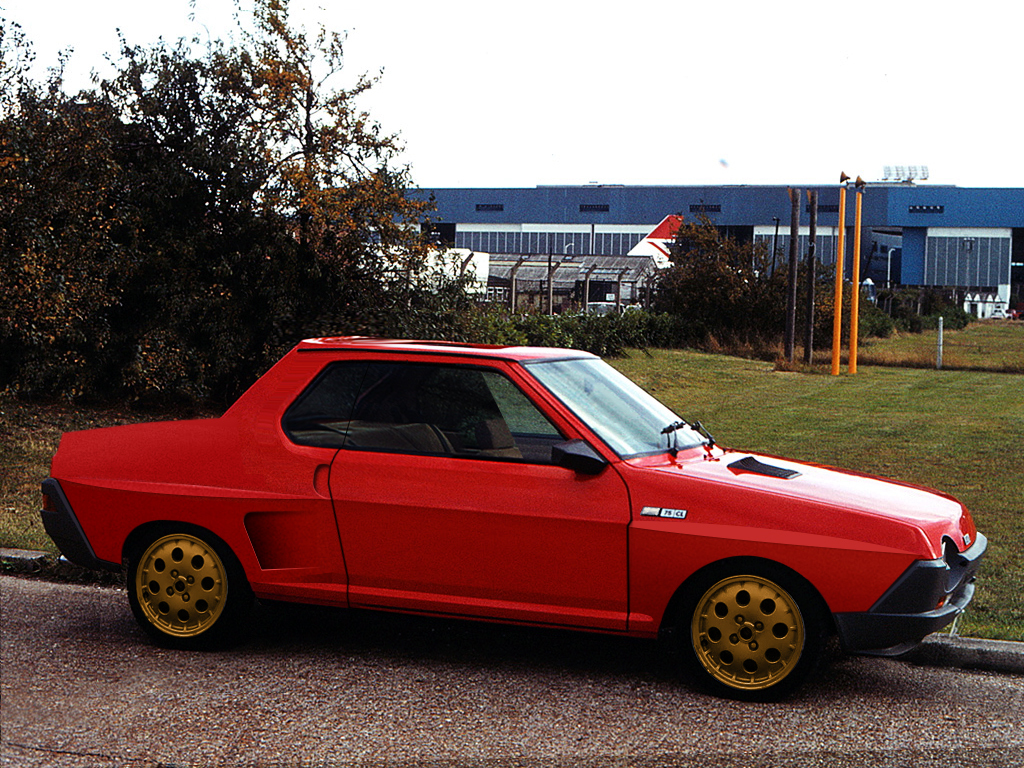cars: (35, 329, 986, 703)
